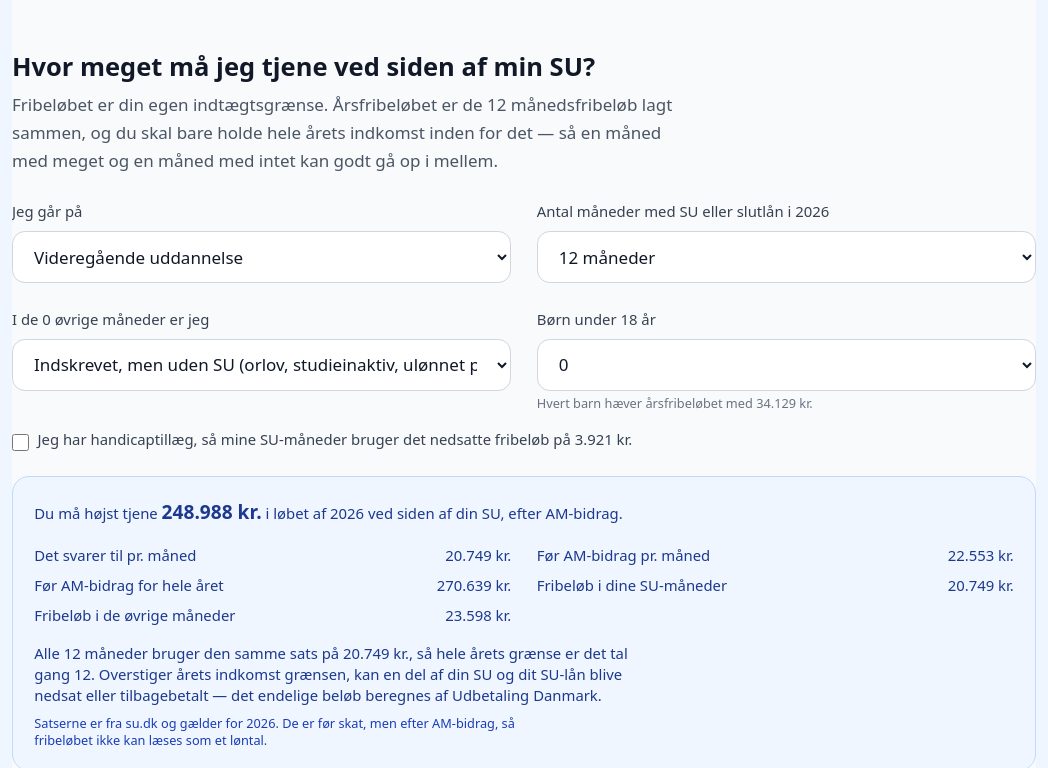
SU-indtægtsgrænsen: standard-svaret › kalder ikke det nedsatte handicaptillægs-fribeløb for «den laveste sats»
The width and height of the screenshot is (1048, 768).
Click the checkbox labelled "Jeg har handicaptillæg" at (20, 442), box [12, 434, 29, 450]
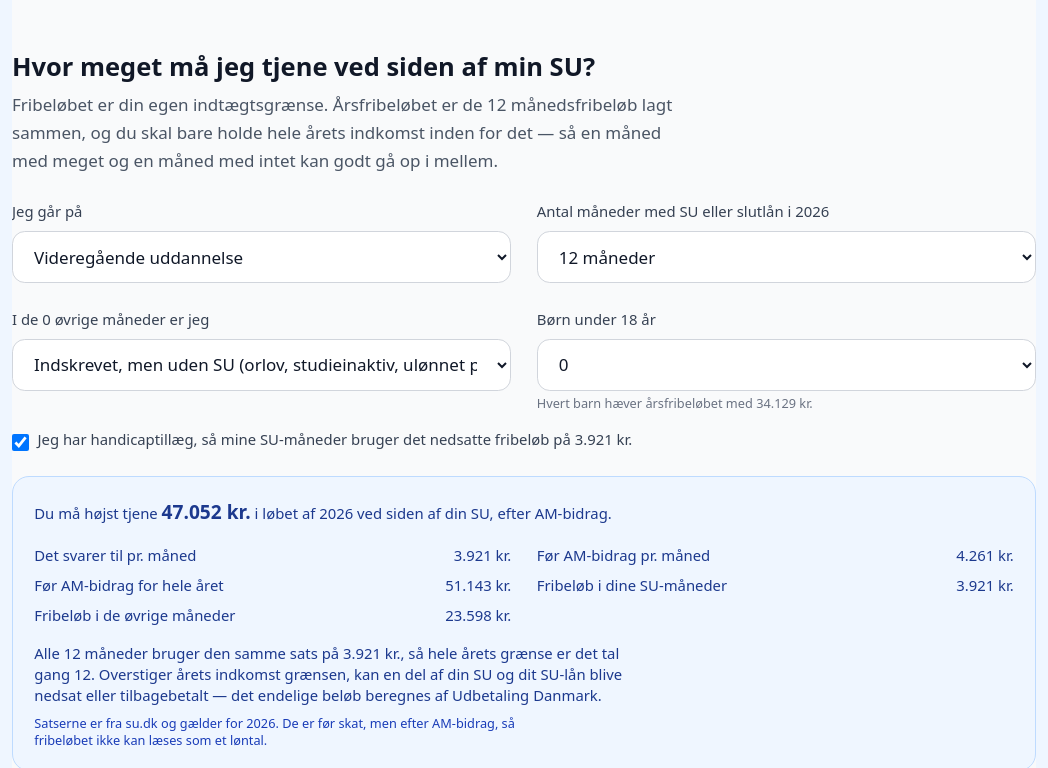
Check: the text "Alle 12 måneder bruger den samme sats på 3.921 kr." is shown, box [34, 643, 619, 684]
